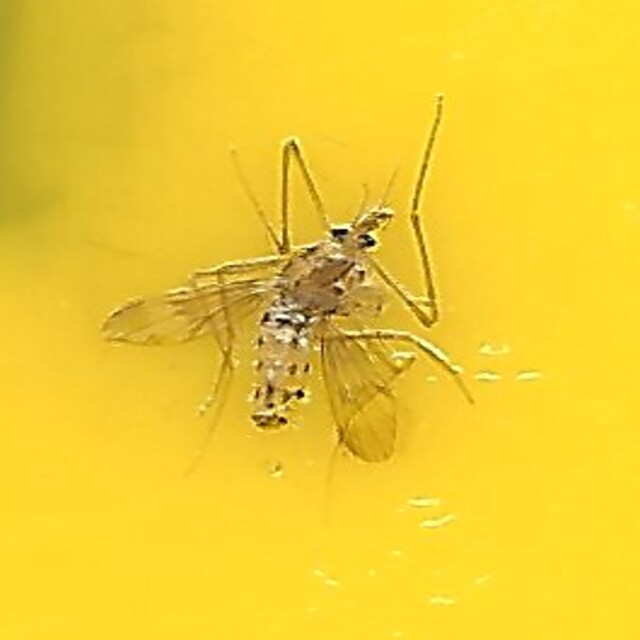Nematocera: (242, 189, 398, 451)
